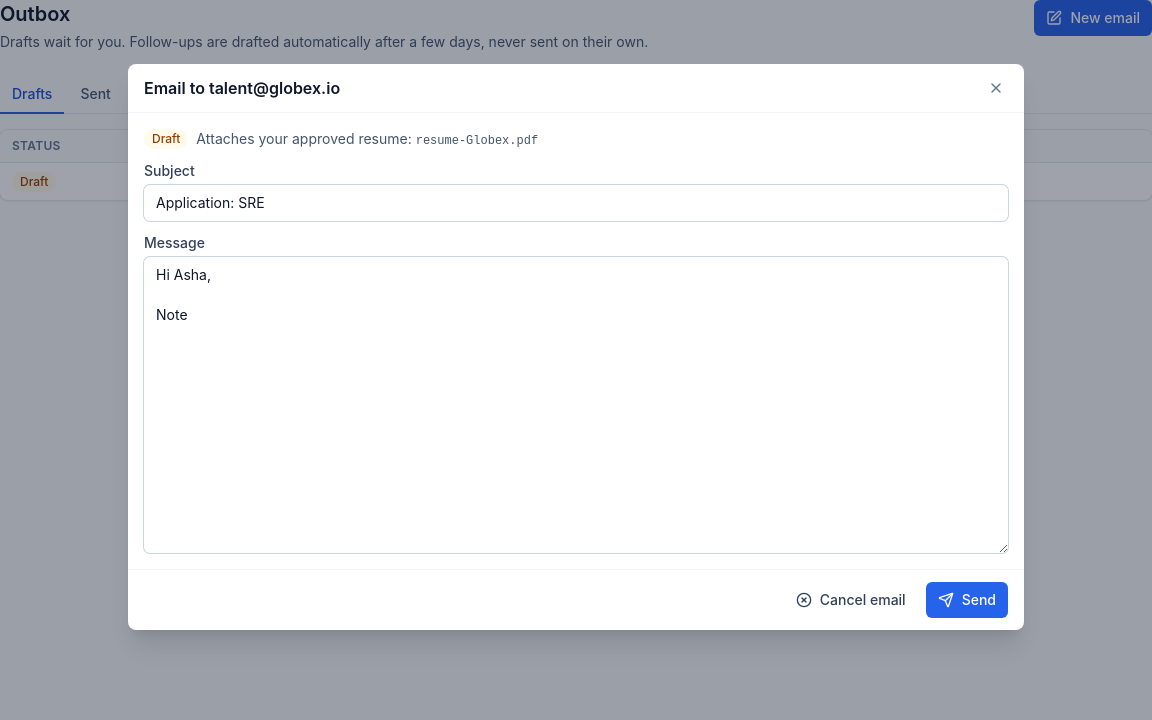
Test: OutreachPage › reviews a draft, saves edits and sends
This screenshot has width=1152, height=720.
Expected: the text "resume-Globex.pdf" is shown, [416,134,538,148]
Replace the text in the field labelled "Subject" with "Edited subject" at x=576, y=203, box [144,185,1008,221]
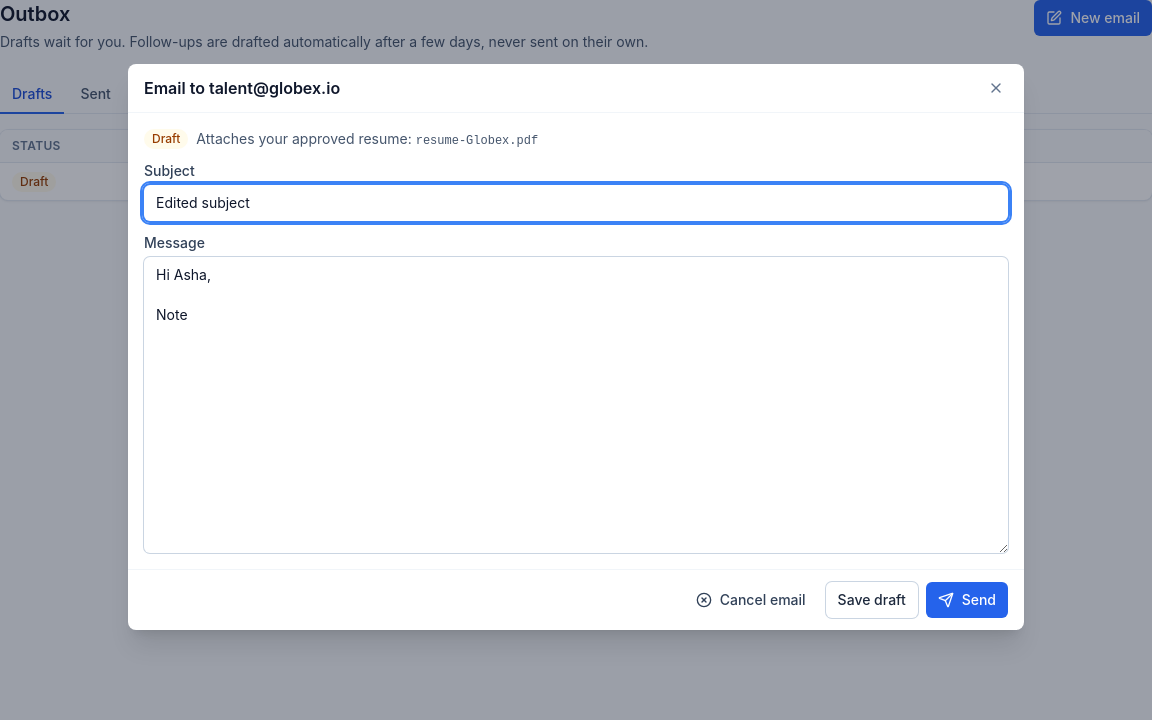
Click the button "Send".
click(967, 600)  # box [926,582,1008,618]
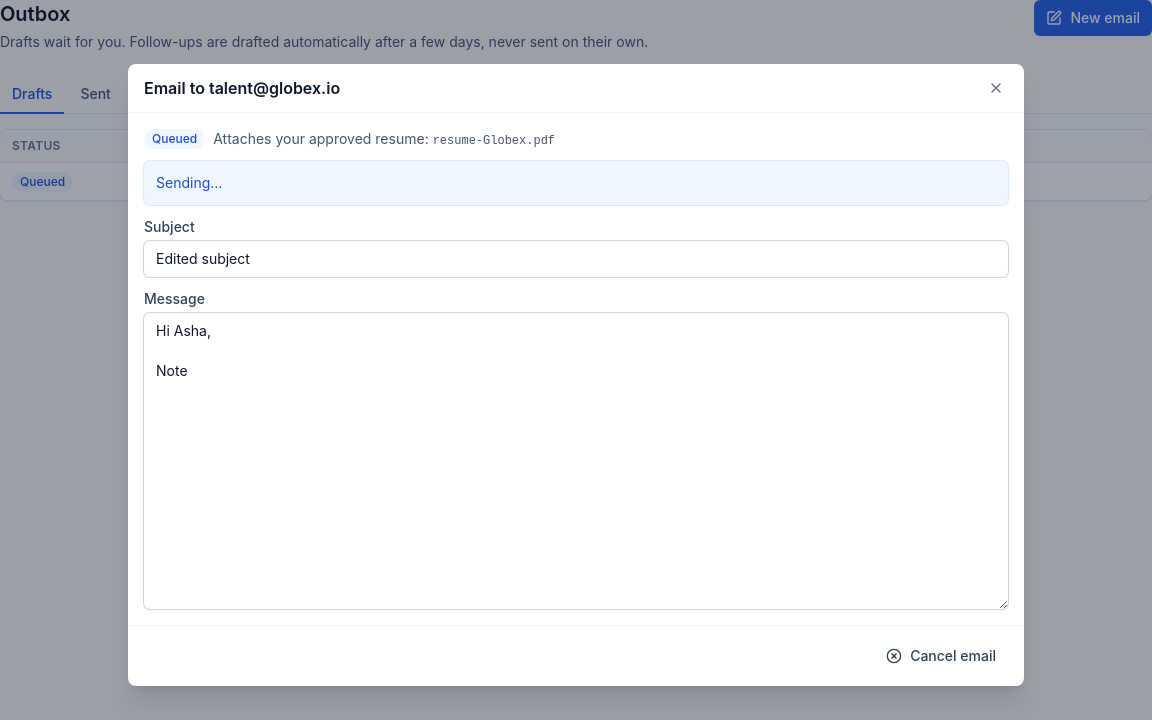
Expected: the text "Sending…" is shown, [156,174,222,191]
